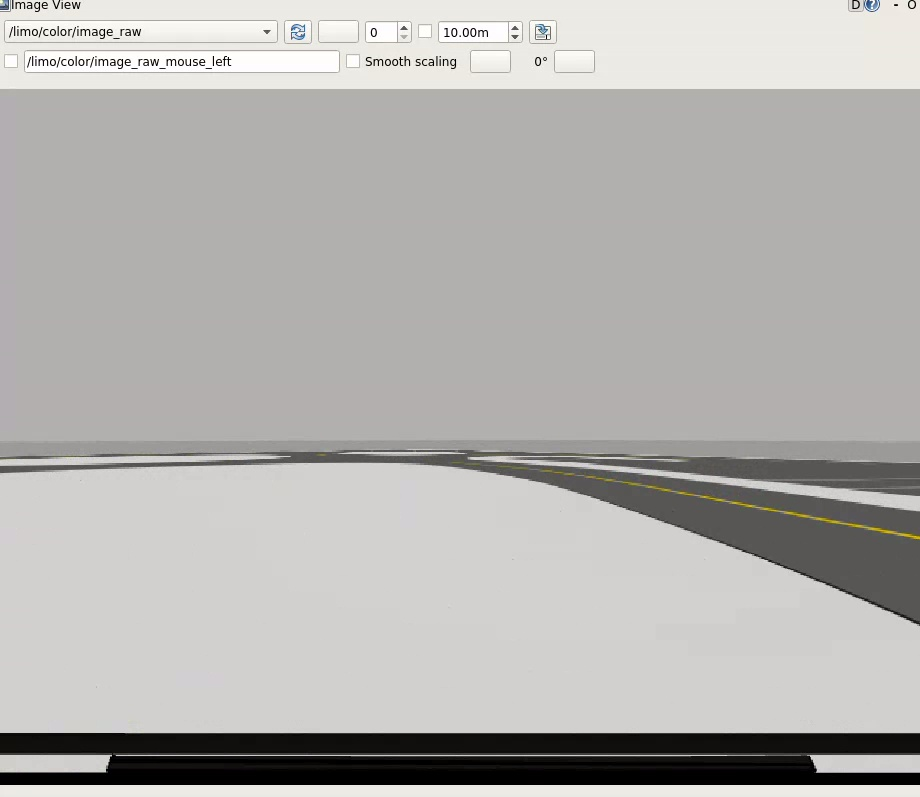Parking: (777, 478, 919, 491)
Solid: (541, 469, 919, 540)
Street: (477, 465, 919, 624), (512, 457, 919, 494), (0, 449, 480, 473), (469, 452, 684, 460)
